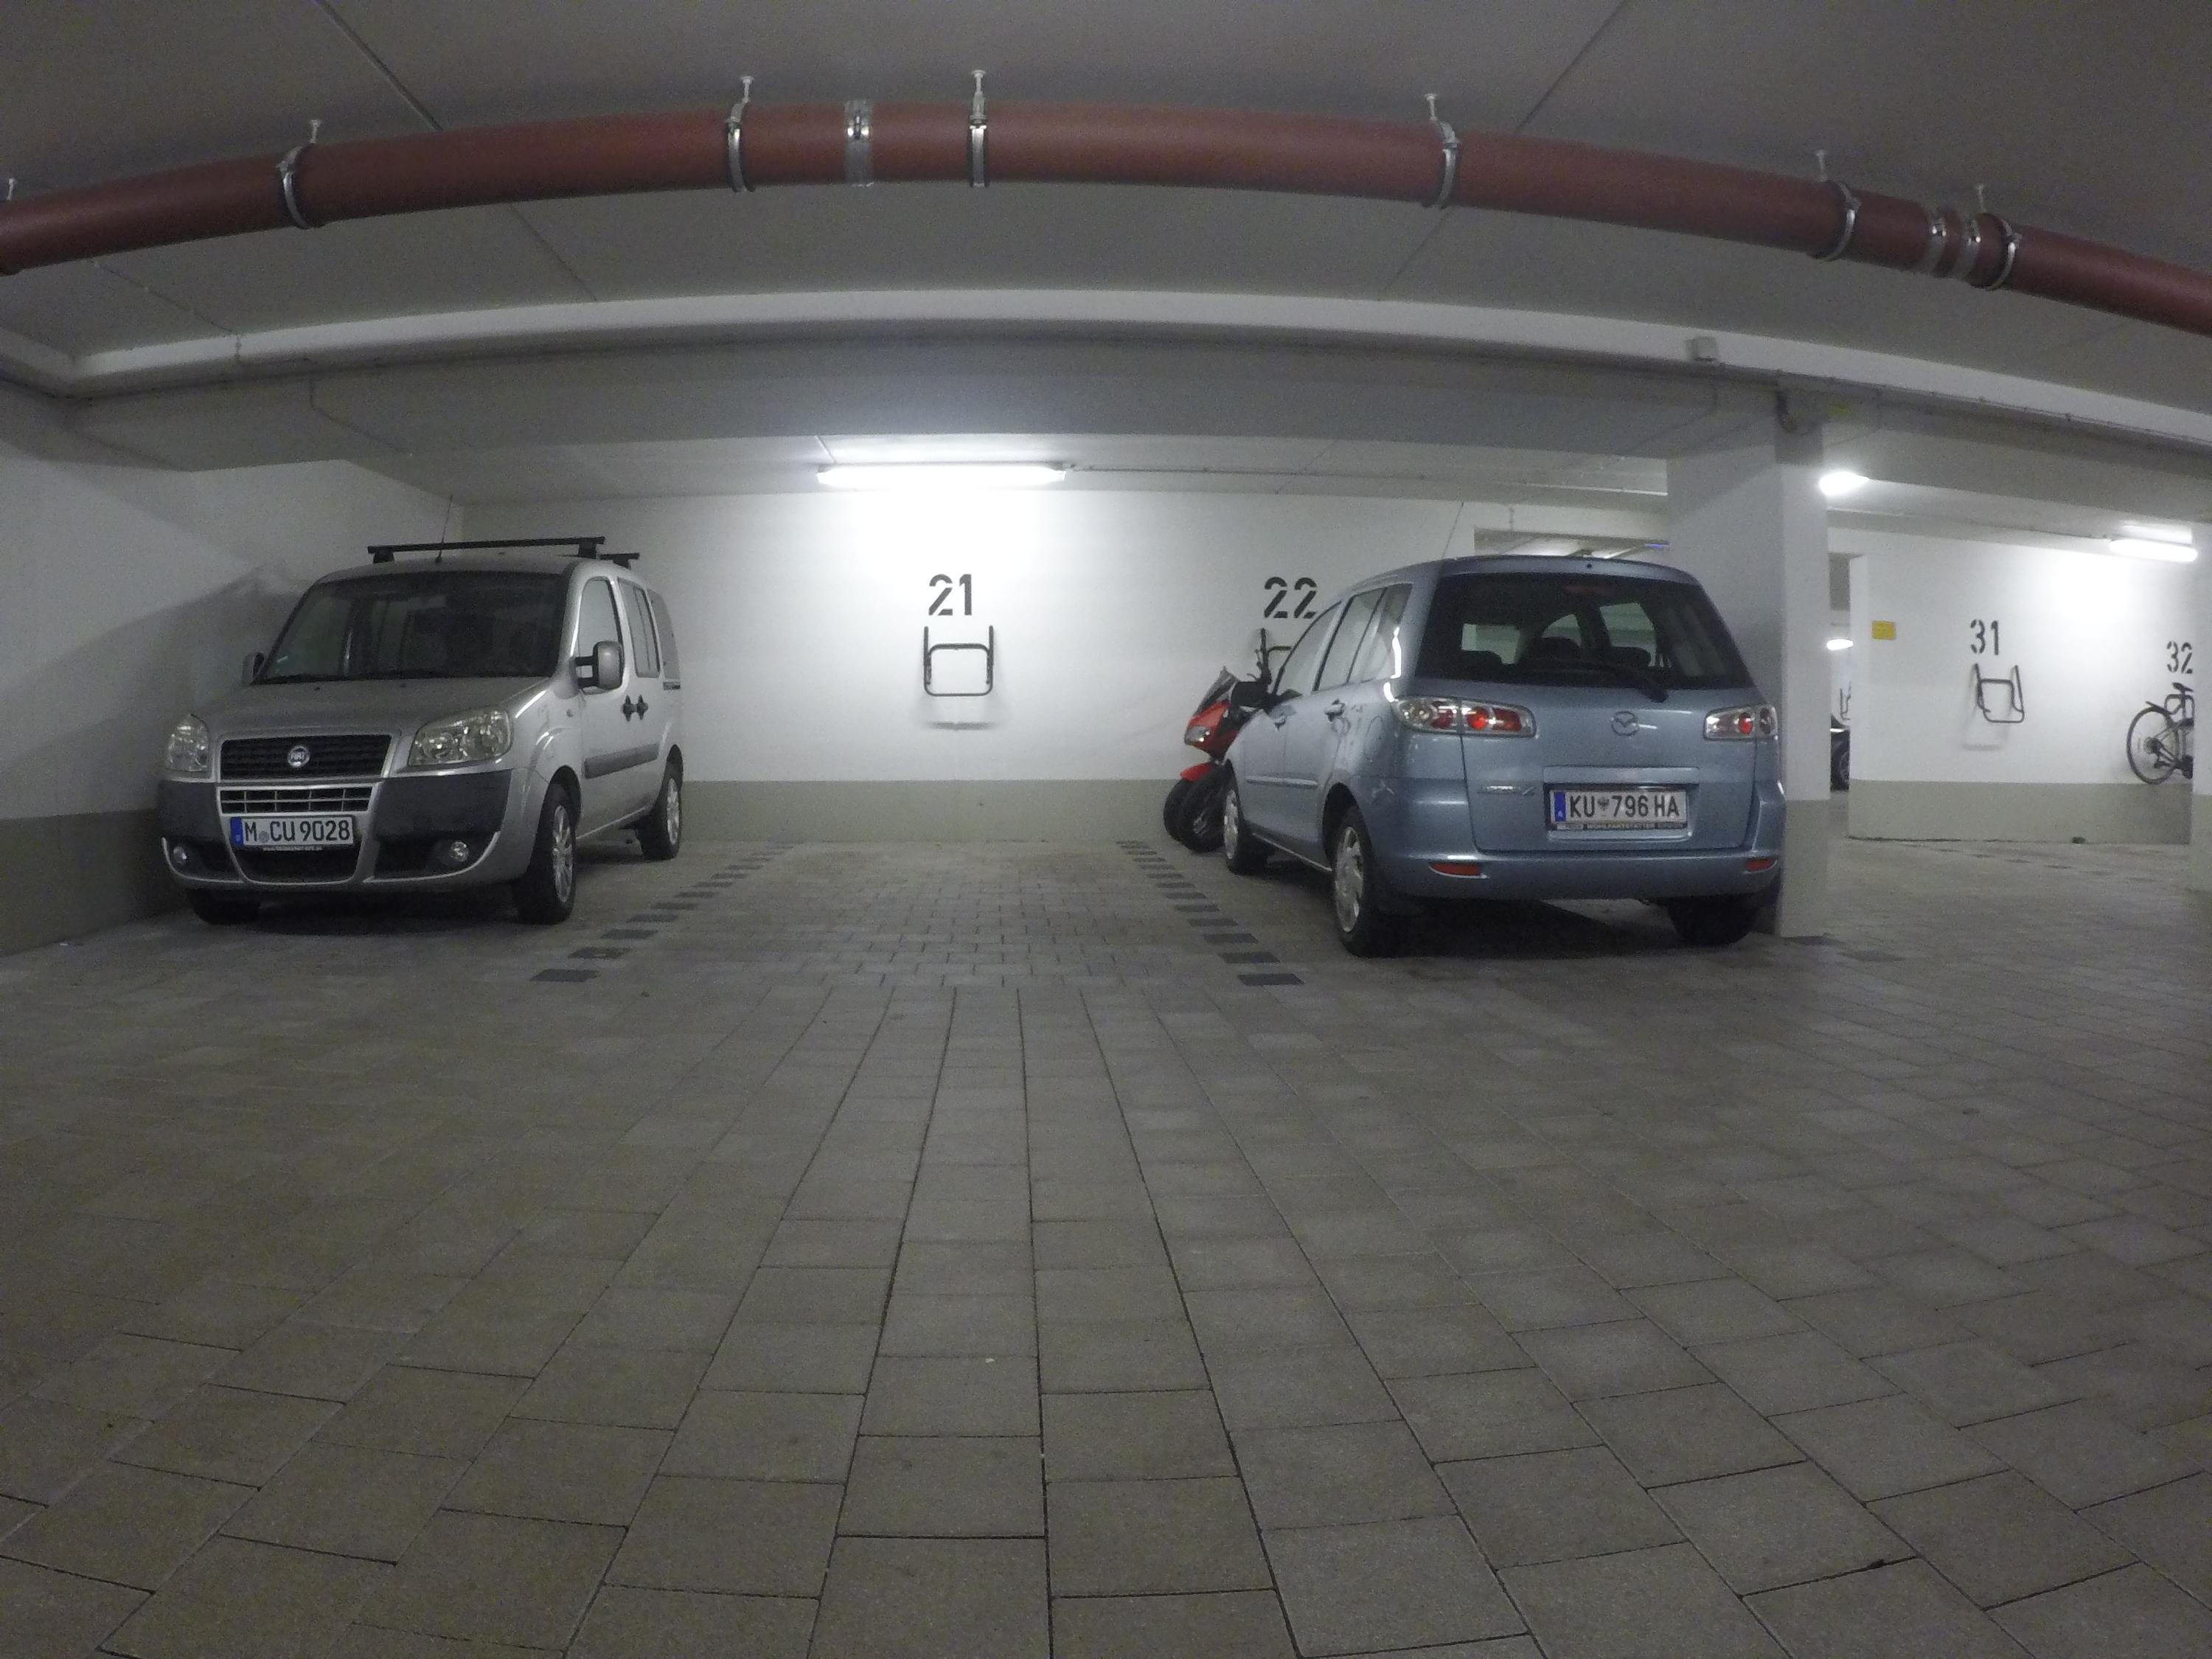0: (311, 820, 325, 841)
2: (325, 820, 338, 841)
6: (1637, 795, 1649, 817)
7: (1610, 794, 1622, 817)
8: (338, 819, 350, 840)
9: (299, 820, 311, 842), (1624, 795, 1635, 818)
A: (1667, 795, 1680, 818)
C: (269, 821, 282, 841)
H: (1653, 794, 1666, 818)
K: (1569, 794, 1582, 818)
M: (244, 821, 257, 842)
U: (1583, 793, 1596, 818), (282, 820, 296, 841)
